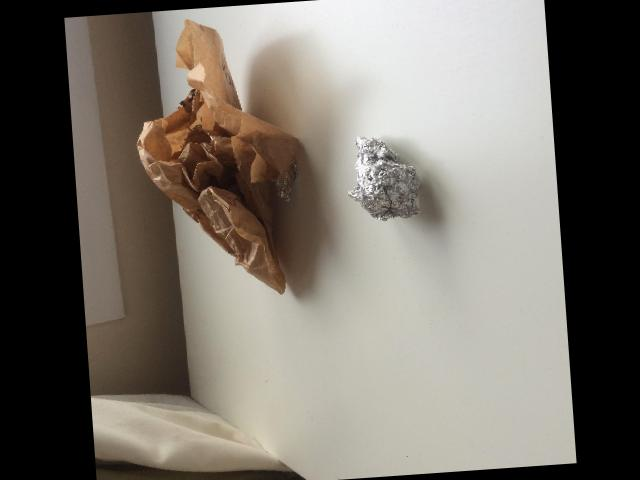cardboard paper: (137, 19, 298, 292)
